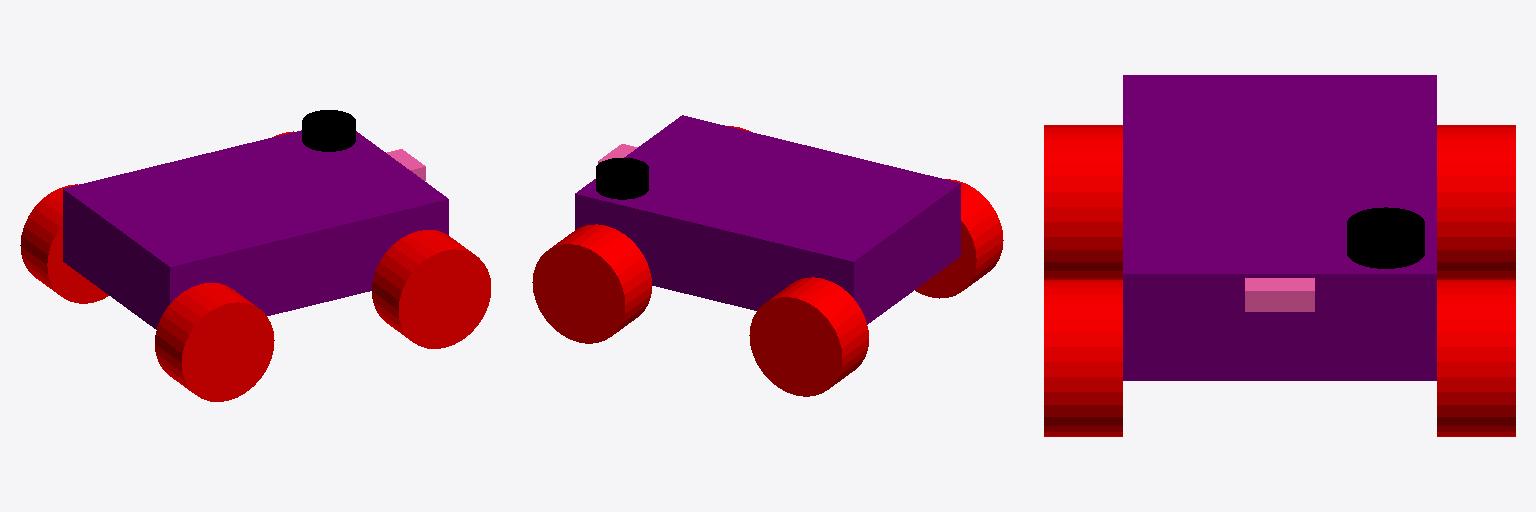
robot.urdf — mobRob:
<?xml version="1.0" ?>
<!-- =================================================================================== -->
<!-- |    This document was autogenerated by xacro from /tmp/mobRobURDF_temp_salciodq/full_src.xacro | -->
<!-- |    EDITING THIS FILE BY HAND IS NOT RECOMMENDED                                 | -->
<!-- =================================================================================== -->
<robot name="mobRob" xmlns:gz="http://gazebosim.org/schema">
  <!-- Base Footprint (ground-projected origin; massless, sits where the wheels touch the ground) -->
  <link name="base_footprint"/>
  <material name="Gray">
    <color rgba="0.50 0.50 0.50 1.0"/>
  </material>
  <material name="Silver">
    <color rgba="0.75 0.75 0.75 1.0"/>
  </material>
  <material name="Dark Gray">
    <color rgba="0.25 0.25 0.25 1.0"/>
  </material>
  <material name="Black">
    <color rgba="0.00 0.00 0.00 1.0"/>
  </material>
  <material name="White">
    <color rgba="1.00 1.00 1.00 1.0"/>
  </material>
  <material name="Red">
    <color rgba="1.00 0.00 0.00 1.0"/>
  </material>
  <material name="Maroon">
    <color rgba="0.50 0.00 0.00 1.0"/>
  </material>
  <material name="Orange">
    <color rgba="1.00 0.50 0.00 1.0"/>
  </material>
  <material name="Yellow">
    <color rgba="1.00 1.00 0.00 1.0"/>
  </material>
  <material name="Green">
    <color rgba="0.00 0.80 0.00 1.0"/>
  </material>
  <material name="Lime">
    <color rgba="0.50 1.00 0.00 1.0"/>
  </material>
  <material name="Teal">
    <color rgba="0.00 0.50 0.50 1.0"/>
  </material>
  <material name="Cyan">
    <color rgba="0.00 1.00 1.00 1.0"/>
  </material>
  <material name="Blue">
    <color rgba="0.00 0.00 1.00 1.0"/>
  </material>
  <material name="Navy">
    <color rgba="0.00 0.00 0.50 1.0"/>
  </material>
  <material name="Purple">
    <color rgba="0.50 0.00 0.50 1.0"/>
  </material>
  <material name="Pink">
    <color rgba="1.00 0.40 0.70 1.0"/>
  </material>
  <material name="Brown">
    <color rgba="0.60 0.30 0.10 1.0"/>
  </material>
  <!-- Base Link (physical robot body / chassis) -->
  <link name="base_link">
    <inertial>
      <mass value="0.5"/>
      <origin rpy="0 0 0" xyz="0 0 0"/>
      <inertia ixx="0.03041666666666667" ixy="0" ixz="0" iyy="0.06375" iyz="0" izz="0.08666666666666667"/>
    </inertial>
    <visual>
      <origin rpy="0 0 0" xyz="0 0 0"/>
      <geometry>
        <box size="1.2 0.8 0.3"/>
      </geometry>
      <material name="Purple"/>
    </visual>
    <collision>
      <origin rpy="0 0 0" xyz="0 0 0"/>
      <geometry>
        <box size="1.2 0.8 0.3"/>
      </geometry>
    </collision>
  </link>
  <!-- Fixed Joint between base_footprint and base_link.
         Raised by h/2 + wheel_radius so base_footprint lands exactly at the
         ground contact point (wheel centres sit at z = wheel_radius). -->
  <joint name="base_footprint_to_base_link" type="fixed">
    <parent link="base_footprint"/>
    <child link="base_link"/>
    <origin rpy="0 0 0" xyz="0 0 0.35"/>
  </joint>
  <link name="front_left_wheel">
    <inertial>
      <mass value="0.5"/>
      <origin rpy="1.5707963267948966 0 0" xyz="0 0 0"/>
      <inertia ixx="0.006666666666666668" ixy="0" ixz="0" iyy="0.006666666666666668" iyz="0" izz="0.010000000000000002"/>
    </inertial>
    <visual>
      <origin rpy="1.5707963267948966 0 0" xyz="0 0 0"/>
      <geometry>
        <cylinder length="0.2" radius="0.2"/>
      </geometry>
      <material name="Red"/>
    </visual>
    <collision>
      <origin rpy="1.5707963267948966 0 0" xyz="0 0 0"/>
      <geometry>
        <cylinder length="0.2" radius="0.2"/>
      </geometry>
    </collision>
  </link>
  <joint name="front_left_joint" type="continuous">
    <parent link="base_link"/>
    <child link="front_left_wheel"/>
    <origin rpy="0 0 0" xyz="0.4666666666666667 0.5 -0.15"/>
    <axis xyz="0 1 0"/>
  </joint>
  <link name="front_right_wheel">
    <inertial>
      <mass value="0.5"/>
      <origin rpy="1.5707963267948966 0 0" xyz="0 0 0"/>
      <inertia ixx="0.006666666666666668" ixy="0" ixz="0" iyy="0.006666666666666668" iyz="0" izz="0.010000000000000002"/>
    </inertial>
    <visual>
      <origin rpy="1.5707963267948966 0 0" xyz="0 0 0"/>
      <geometry>
        <cylinder length="0.2" radius="0.2"/>
      </geometry>
      <material name="Red"/>
    </visual>
    <collision>
      <origin rpy="1.5707963267948966 0 0" xyz="0 0 0"/>
      <geometry>
        <cylinder length="0.2" radius="0.2"/>
      </geometry>
    </collision>
  </link>
  <joint name="front_right_joint" type="continuous">
    <parent link="base_link"/>
    <child link="front_right_wheel"/>
    <origin rpy="0 0 0" xyz="0.4666666666666667 -0.5 -0.15"/>
    <axis xyz="0 1 0"/>
  </joint>
  <link name="rear_left_wheel">
    <inertial>
      <mass value="0.5"/>
      <origin rpy="1.5707963267948966 0 0" xyz="0 0 0"/>
      <inertia ixx="0.006666666666666668" ixy="0" ixz="0" iyy="0.006666666666666668" iyz="0" izz="0.010000000000000002"/>
    </inertial>
    <visual>
      <origin rpy="1.5707963267948966 0 0" xyz="0 0 0"/>
      <geometry>
        <cylinder length="0.2" radius="0.2"/>
      </geometry>
      <material name="Red"/>
    </visual>
    <collision>
      <origin rpy="1.5707963267948966 0 0" xyz="0 0 0"/>
      <geometry>
        <cylinder length="0.2" radius="0.2"/>
      </geometry>
    </collision>
  </link>
  <joint name="rear_left_joint" type="continuous">
    <parent link="base_link"/>
    <child link="rear_left_wheel"/>
    <origin rpy="0 0 0" xyz="-0.4666666666666667 0.5 -0.15"/>
    <axis xyz="0 1 0"/>
  </joint>
  <link name="rear_right_wheel">
    <inertial>
      <mass value="0.5"/>
      <origin rpy="1.5707963267948966 0 0" xyz="0 0 0"/>
      <inertia ixx="0.006666666666666668" ixy="0" ixz="0" iyy="0.006666666666666668" iyz="0" izz="0.010000000000000002"/>
    </inertial>
    <visual>
      <origin rpy="1.5707963267948966 0 0" xyz="0 0 0"/>
      <geometry>
        <cylinder length="0.2" radius="0.2"/>
      </geometry>
      <material name="Red"/>
    </visual>
    <collision>
      <origin rpy="1.5707963267948966 0 0" xyz="0 0 0"/>
      <geometry>
        <cylinder length="0.2" radius="0.2"/>
      </geometry>
    </collision>
  </link>
  <joint name="rear_right_joint" type="continuous">
    <parent link="base_link"/>
    <child link="rear_right_wheel"/>
    <origin rpy="0 0 0" xyz="-0.4666666666666667 -0.5 -0.15"/>
    <axis xyz="0 1 0"/>
  </joint>
  <ros2_control name="GazeboSystem" type="system">
    <hardware>
      <plugin>gz_ros2_control/GazeboSimSystem</plugin>
    </hardware>
    <joint name="front_left_joint">
      <command_interface name="velocity">
        <param name="min">-50</param>
        <param name="max">50</param>
      </command_interface>
      <state_interface name="velocity"/>
      <state_interface name="position"/>
    </joint>
    <joint name="front_right_joint">
      <command_interface name="velocity">
        <param name="min">-50</param>
        <param name="max">50</param>
      </command_interface>
      <state_interface name="velocity"/>
      <state_interface name="position"/>
    </joint>
    <joint name="rear_left_joint">
      <command_interface name="velocity">
        <param name="min">-50</param>
        <param name="max">50</param>
      </command_interface>
      <state_interface name="velocity"/>
      <state_interface name="position"/>
    </joint>
    <joint name="rear_right_joint">
      <command_interface name="velocity">
        <param name="min">-50</param>
        <param name="max">50</param>
      </command_interface>
      <state_interface name="velocity"/>
      <state_interface name="position"/>
    </joint>
    <!-- - - - - - - - - - - - - - -->
  </ros2_control>
  <gazebo>
    <plugin filename="libgz_ros2_control-system.so" name="gz_ros2_control::GazeboSimROS2ControlPlugin">
      <parameters>/home/d22/gz_ws/src/Mobile_Robot_URDF_Maker/install/mobRobURDF_control/share/mobRobURDF_control/config/drive/gazebo_controller_diffDrive_4wd.yaml</parameters>
    </plugin>
  </gazebo>
  <!-- Base footprint (massless ground-projection frame, never touches ground, no friction needed) -->
  <gazebo reference="base_footprint">
    <collision>
      <surface>
        <friction>
          <ode>
            <mu>0.0</mu>
            <mu2>0.0</mu2>
          </ode>
        </friction>
      </surface>
    </collision>
  </gazebo>
  <gazebo reference="front_left_wheel">
    <collision>
      <surface>
        <friction>
          <ode>
            <mu>3.0</mu>
            <mu2>0.5</mu2>
            <fdir1>1 0 0</fdir1>
          </ode>
        </friction>
        <contact>
          <ode>
            <kp>1000000.0</kp>
            <kd>100.0</kd>
            <max_vel>0.1</max_vel>
            <min_depth>0.001</min_depth>
          </ode>
        </contact>
        <bounce>
          <restitution_coefficient>0.0</restitution_coefficient>
        </bounce>
      </surface>
    </collision>
  </gazebo>
  <gazebo reference="front_left_joint">
    <damping>0.1</damping>
  </gazebo>
  <gazebo reference="front_right_wheel">
    <collision>
      <surface>
        <friction>
          <ode>
            <mu>3.0</mu>
            <mu2>0.5</mu2>
            <fdir1>1 0 0</fdir1>
          </ode>
        </friction>
        <contact>
          <ode>
            <kp>1000000.0</kp>
            <kd>100.0</kd>
            <max_vel>0.1</max_vel>
            <min_depth>0.001</min_depth>
          </ode>
        </contact>
        <bounce>
          <restitution_coefficient>0.0</restitution_coefficient>
        </bounce>
      </surface>
    </collision>
  </gazebo>
  <gazebo reference="front_right_joint">
    <damping>0.1</damping>
  </gazebo>
  <gazebo reference="rear_left_wheel">
    <collision>
      <surface>
        <friction>
          <ode>
            <mu>3.0</mu>
            <mu2>0.5</mu2>
            <fdir1>1 0 0</fdir1>
          </ode>
        </friction>
        <contact>
          <ode>
            <kp>1000000.0</kp>
            <kd>100.0</kd>
            <max_vel>0.1</max_vel>
            <min_depth>0.001</min_depth>
          </ode>
        </contact>
        <bounce>
          <restitution_coefficient>0.0</restitution_coefficient>
        </bounce>
      </surface>
    </collision>
  </gazebo>
  <gazebo reference="rear_left_joint">
    <damping>0.1</damping>
  </gazebo>
  <gazebo reference="rear_right_wheel">
    <collision>
      <surface>
        <friction>
          <ode>
            <mu>3.0</mu>
            <mu2>0.5</mu2>
            <fdir1>1 0 0</fdir1>
          </ode>
        </friction>
        <contact>
          <ode>
            <kp>1000000.0</kp>
            <kd>100.0</kd>
            <max_vel>0.1</max_vel>
            <min_depth>0.001</min_depth>
          </ode>
        </contact>
        <bounce>
          <restitution_coefficient>0.0</restitution_coefficient>
        </bounce>
      </surface>
    </collision>
  </gazebo>
  <gazebo reference="rear_right_joint">
    <damping>0.1</damping>
  </gazebo>
  <gazebo reference="base_link">
    <material>
      <ambient>0.50 0.0  0.50 1</ambient>
      <diffuse>0.50 0.0  0.50 1</diffuse>
      <specular>0.1 0.1 0.1 1</specular>
      <emissive>0 0 0 1</emissive>
    </material>
  </gazebo>
  <gazebo reference="front_left_wheel">
    <material>
      <ambient>1.0  0.0  0.0  1</ambient>
      <diffuse>1.0  0.0  0.0  1</diffuse>
      <specular>0.1 0.1 0.1 1</specular>
      <emissive>0 0 0 1</emissive>
    </material>
  </gazebo>
  <gazebo reference="front_right_wheel">
    <material>
      <ambient>1.0  0.0  0.0  1</ambient>
      <diffuse>1.0  0.0  0.0  1</diffuse>
      <specular>0.1 0.1 0.1 1</specular>
      <emissive>0 0 0 1</emissive>
    </material>
  </gazebo>
  <gazebo reference="rear_left_wheel">
    <material>
      <ambient>1.0  0.0  0.0  1</ambient>
      <diffuse>1.0  0.0  0.0  1</diffuse>
      <specular>0.1 0.1 0.1 1</specular>
      <emissive>0 0 0 1</emissive>
    </material>
  </gazebo>
  <gazebo reference="rear_right_wheel">
    <material>
      <ambient>1.0  0.0  0.0  1</ambient>
      <diffuse>1.0  0.0  0.0  1</diffuse>
      <specular>0.1 0.1 0.1 1</specular>
      <emissive>0 0 0 1</emissive>
    </material>
  </gazebo>
  <!-- Lidar: lidar_d22v1 -->
  <link name="lidar_d22v1">
    <visual>
      <geometry>
        <cylinder length="0.08" radius="0.1"/>
      </geometry>
      <material name="Black"/>
    </visual>
    <collision>
      <geometry>
        <cylinder length="0.08" radius="0.1"/>
      </geometry>
    </collision>
    <inertial>
      <mass value="0.1"/>
      <inertia ixx="0.000303" ixy="0" ixz="0" iyy="0.000303" iyz="0" izz="0.000500"/>
    </inertial>
  </link>
  <joint name="lidar_d22v1_joint" type="fixed">
    <parent link="base_link"/>
    <child link="lidar_d22v1"/>
    <origin rpy="0.0 0.0 0.0" xyz="0.47 0.27 0.19"/>
  </joint>
  <gazebo reference="lidar_d22v1">
    <material>
      <ambient>0.05 0.05 0.05 1</ambient>
      <diffuse>0.05 0.05 0.05 1</diffuse>
      <specular>0.1 0.1 0.1 1</specular>
      <emissive>0 0 0 1</emissive>
    </material>
    <sensor name="lidar_d22v1_sensor" type="gpu_lidar">
      <pose>0 0 0 0 0 0</pose>
      <visualize>true</visualize>
      <update_rate>10.0</update_rate>
      <lidar>
        <scan>
          <horizontal>
            <samples>360</samples>
            <min_angle>-1.57079</min_angle>
            <max_angle>3.14159</max_angle>
          </horizontal>
        </scan>
        <range>
          <min>0.3</min>
          <max>12.0</max>
        </range>
      </lidar>
      <topic>lidar_d22v1/scan</topic>
      <gz_frame_id>lidar_d22v1</gz_frame_id>
    </sensor>
  </gazebo>
  <!-- Camera: camera_d22v1 -->
  <link name="camera_d22v1">
    <visual>
      <geometry>
        <box size="0.08 0.18 0.06"/>
      </geometry>
      <material name="Pink"/>
    </visual>
    <collision>
      <geometry>
        <box size="0.08 0.18 0.06"/>
      </geometry>
    </collision>
    <inertial>
      <mass value="0.1"/>
      <inertia ixx="0.000300" ixy="0" ixz="0" iyy="0.000083" iyz="0" izz="0.000323"/>
    </inertial>
  </link>
  <joint name="camera_d22v1_joint" type="fixed">
    <parent link="base_link"/>
    <child link="camera_d22v1"/>
    <origin rpy="0.0 0.0 0.0" xyz="0.64 0.0 0.11"/>
  </joint>
  <link name="camera_d22v1_optical"/>
  <joint name="camera_d22v1_optical_joint" type="fixed">
    <parent link="camera_d22v1"/>
    <child link="camera_d22v1_optical"/>
    <origin rpy="-1.5707963 0 -1.5707963" xyz="0 0 0"/>
  </joint>
  <gazebo reference="camera_d22v1">
    <material>
      <ambient>1.0  0.40 0.70 1</ambient>
      <diffuse>1.0  0.40 0.70 1</diffuse>
      <specular>0.1 0.1 0.1 1</specular>
      <emissive>0 0 0 1</emissive>
    </material>
    <sensor name="camera_d22v1_sensor" type="camera">
      <pose>0 0 0 0 0 0</pose>
      <visualize>true</visualize>
      <update_rate>10.0</update_rate>
      <camera>
        <camera_info_topic>camera_d22v1/camera_info</camera_info_topic>
        <horizontal_fov>1.089</horizontal_fov>
        <image>
          <format>R8G8B8</format>
          <width>640</width>
          <height>480</height>
        </image>
        <clip>
          <near>0.05</near>
          <far>8.0</far>
        </clip>
      </camera>
      <topic>camera_d22v1/image_raw</topic>
      <gz_frame_id>camera_d22v1_optical</gz_frame_id>
    </sensor>
  </gazebo>
</robot>

--- Render facts (derived) ---
3 views of the same robot in one strip: view 1: azimuth 30°, elevation 25°; view 2: azimuth 150°, elevation 25°; view 3: azimuth 270°, elevation 25° (orthographic).
Model mobRob with 9 links and 8 joints (4 continuous, 4 fixed), rooted at base_footprint, posed all joints at 0.
Links seen in each view (by area): view 1: base_link, rear_right_wheel, front_right_wheel, rear_left_wheel, lidar_d22v1; view 2: base_link, rear_left_wheel, front_left_wheel, rear_right_wheel, lidar_d22v1; view 3: base_link, front_left_wheel, front_right_wheel, rear_left_wheel, rear_right_wheel, lidar_d22v1, camera_d22v1.
Boxes of the visible links, x1,y1,x2,y2 form: base_link: [63, 130, 448, 329]; rear_right_wheel: [155, 283, 274, 401]; front_right_wheel: [372, 230, 490, 348]; rear_left_wheel: [20, 184, 108, 303]; lidar_d22v1: [302, 110, 355, 151]; base_link: [575, 115, 960, 324]; rear_left_wheel: [749, 277, 868, 396]; front_left_wheel: [532, 224, 651, 343]; rear_right_wheel: [915, 179, 1003, 298]; lidar_d22v1: [596, 158, 648, 199]; base_link: [1123, 75, 1436, 380]; front_left_wheel: [1437, 280, 1515, 436]; front_right_wheel: [1044, 280, 1122, 436]; rear_left_wheel: [1437, 125, 1515, 279]; rear_right_wheel: [1044, 125, 1122, 279]; lidar_d22v1: [1347, 207, 1424, 268]; camera_d22v1: [1245, 278, 1314, 311].
Bounding box of the posed robot: 1.35 × 1.2 × 0.58 m (x, y, z).
Geometry: primitives only (box / cylinder / sphere), no mesh files.
